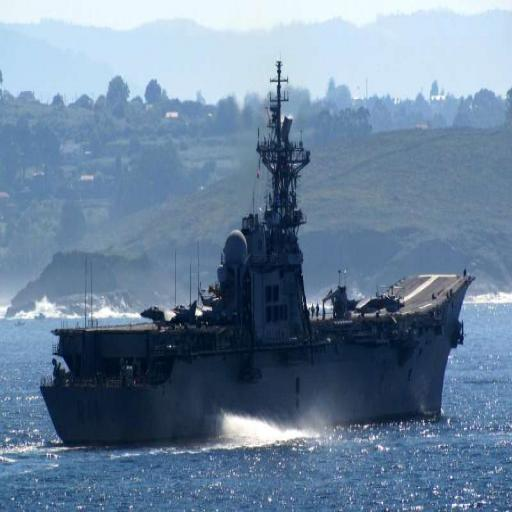Portanaves: (37, 56, 475, 454)
